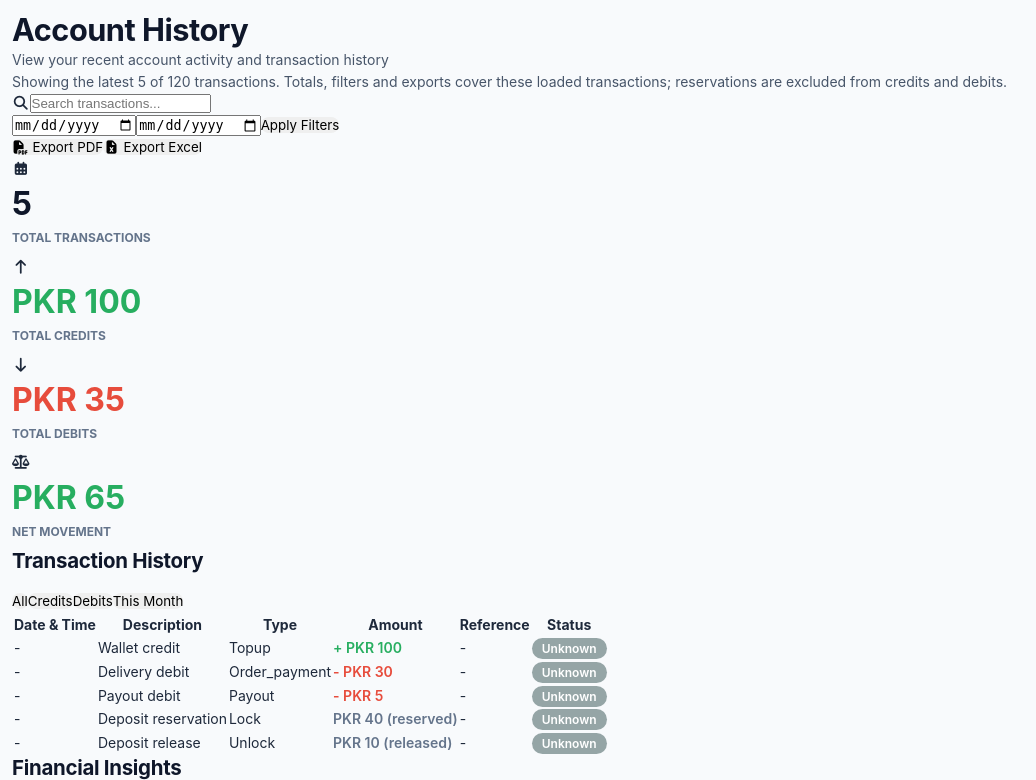
history uses signed movements, excludes reservations from totals/filters and labels loaded coverage
This screenshot has width=1036, height=780.
Expected: the text "Delivery debit" is shown, [98,661,227,683]
Expected: the text "Showing the latest 5 of 120 transactions" is shown, [12,70,1035,92]
Click the button "Credits" at [50, 601], box [28,593,73,609]
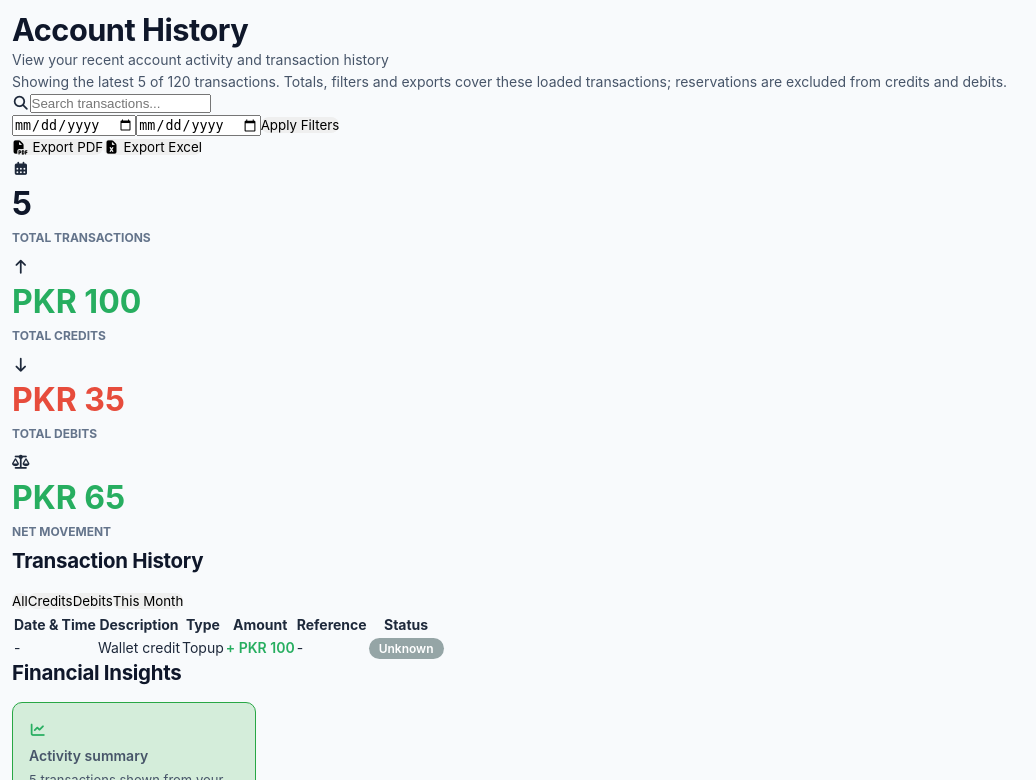
Expected: the text "Delivery debit" is gone
Expected: the text "Deposit reservation" is gone
Expected: the text "Deposit release" is gone
Click the button "Debits" at [93, 601], box [73,593,113,609]
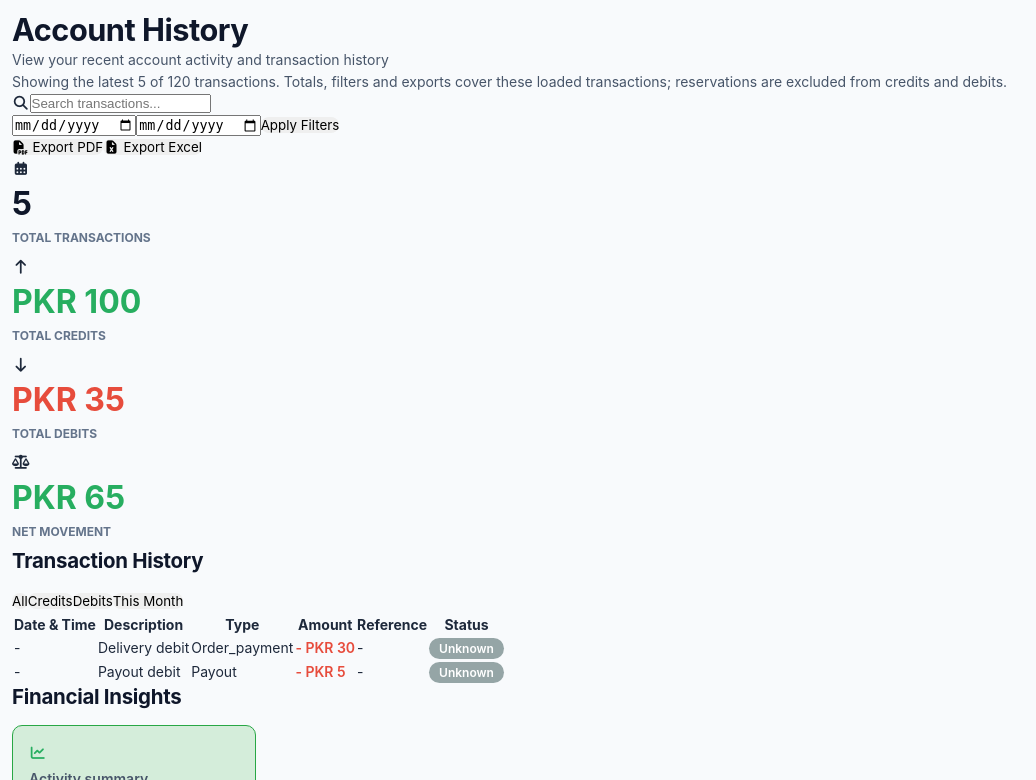
Expected: the text "Delivery debit" is shown, [98,637,189,659]
Expected: the text "Payout debit" is shown, [98,661,189,683]
Expected: the text "Wallet credit" is gone
